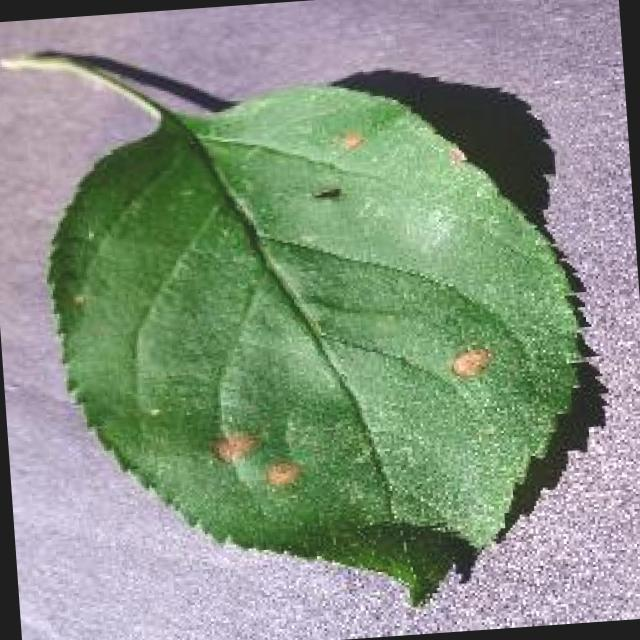leaf_spot: (4, 60, 579, 604)
